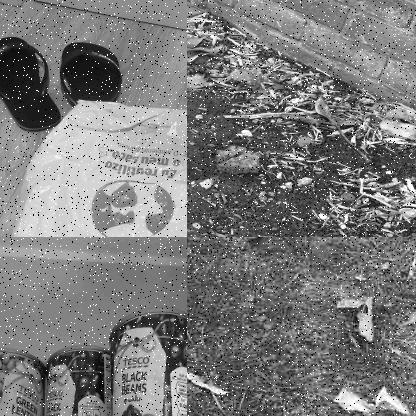metal: (108, 305, 186, 415), (45, 344, 112, 415), (0, 350, 46, 415)
plastic: (0, 102, 186, 236)
